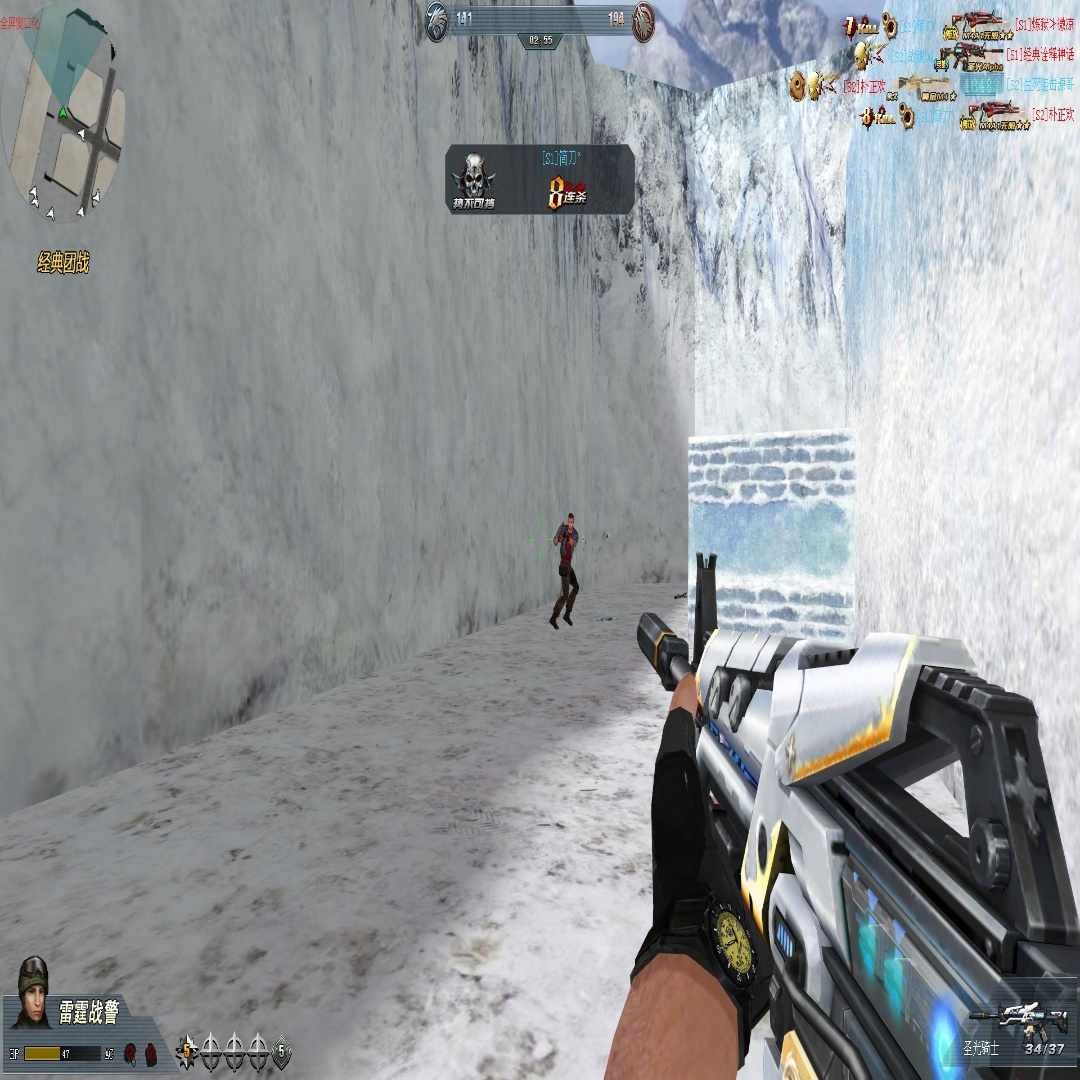t: (549, 510, 580, 630)
